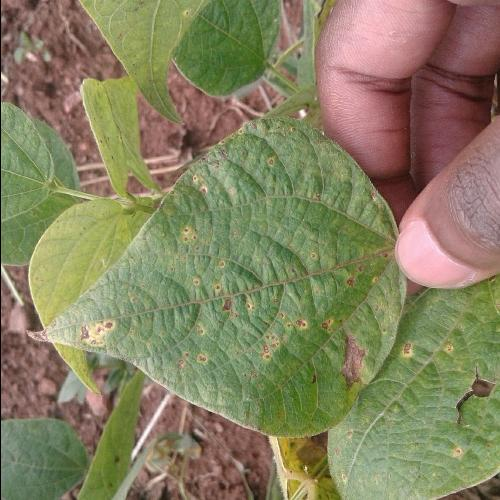hawar: (171, 221, 243, 379), (186, 118, 258, 195), (252, 290, 336, 347), (337, 328, 368, 392), (74, 318, 119, 350), (341, 266, 368, 293)
mozaik: (285, 136, 340, 258), (252, 368, 323, 424)
